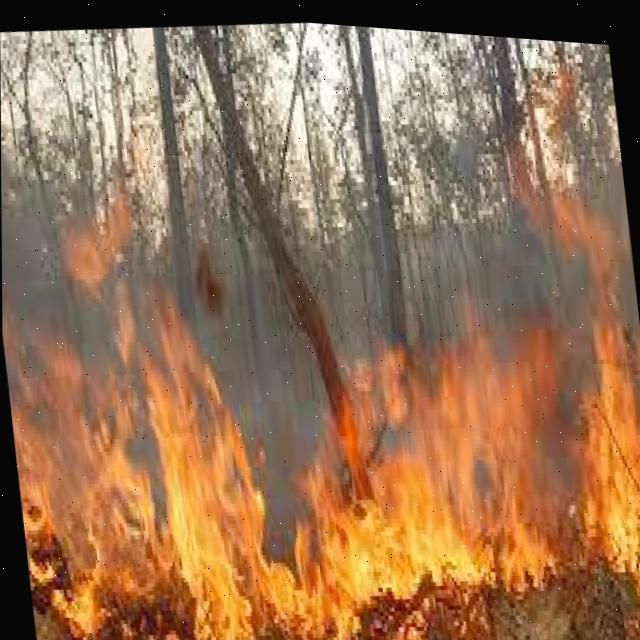smoke: (0, 23, 324, 557), (211, 18, 640, 403)
